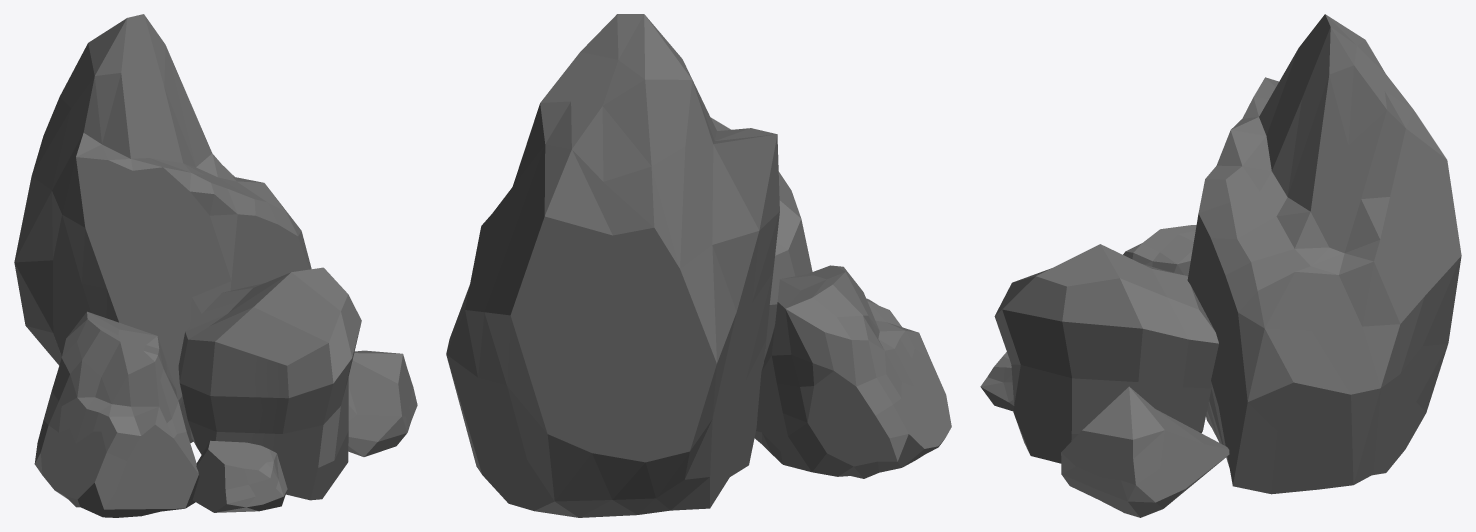
The model's file is rocks.fbx.
The picture shows the model from 3 angles, left to right: view 1: azimuth 30°, elevation 25°; view 2: azimuth 150°, elevation 25°; view 3: azimuth 270°, elevation 25°; orthographic projection. The views are drawn at different scales.
Parts seen in each view (by area): view 1: rockset_LOD0; view 2: rockset_LOD0; view 3: rockset_LOD0.
Part boxes in pixels (bbox=[...]): rockset_LOD0: bbox=[14, 14, 417, 517]; rockset_LOD0: bbox=[446, 14, 951, 517]; rockset_LOD0: bbox=[980, 14, 1461, 517].
Size of what is drawn, in the model's own units: 5.73 by 6.21 by 6.43.
